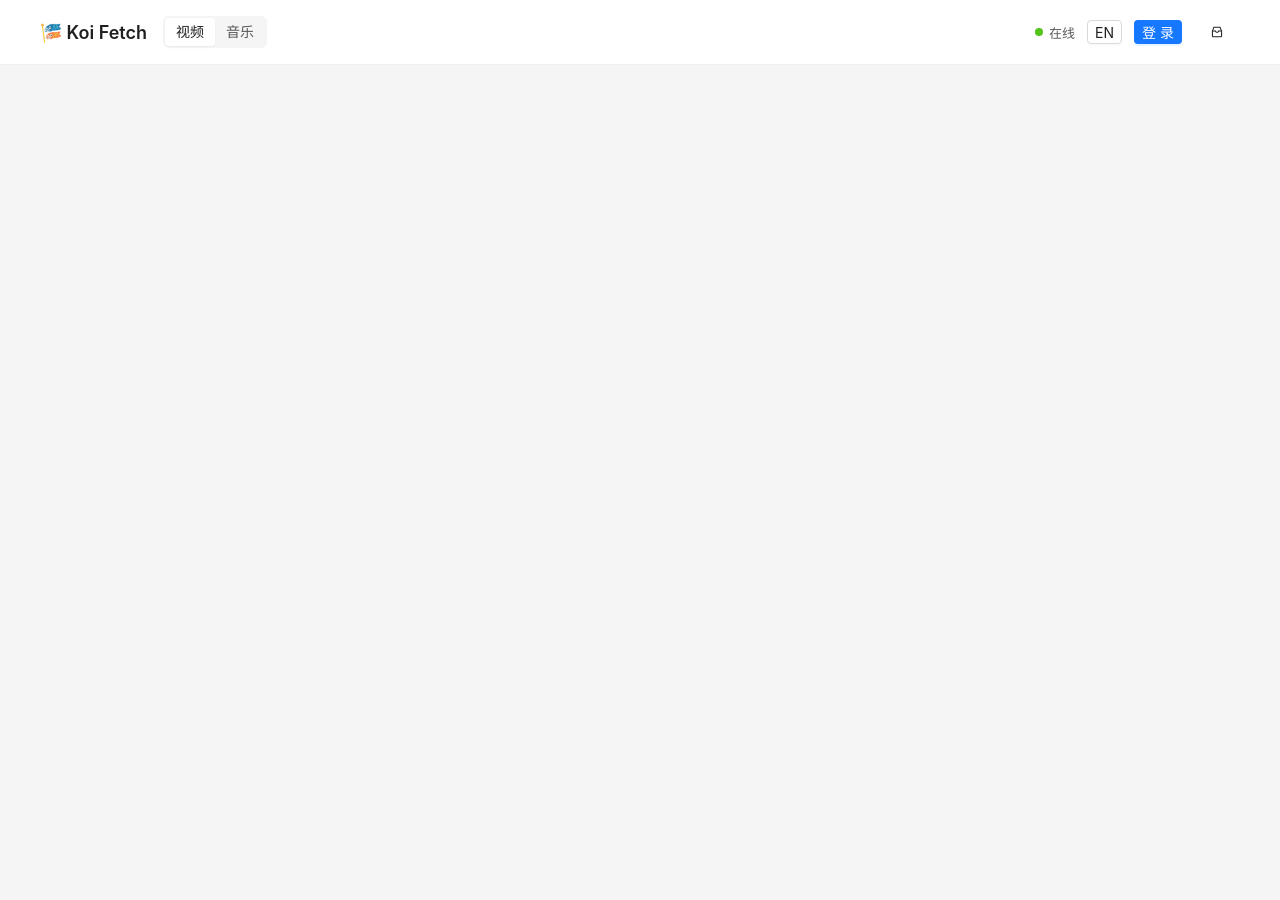
Test case: AppHeader › opens the download-center drawer from the header badge
This screenshot has width=1280, height=900.
Click the button with test id "download-center". click: (1217, 32)
box: [1194,16,1240,48]
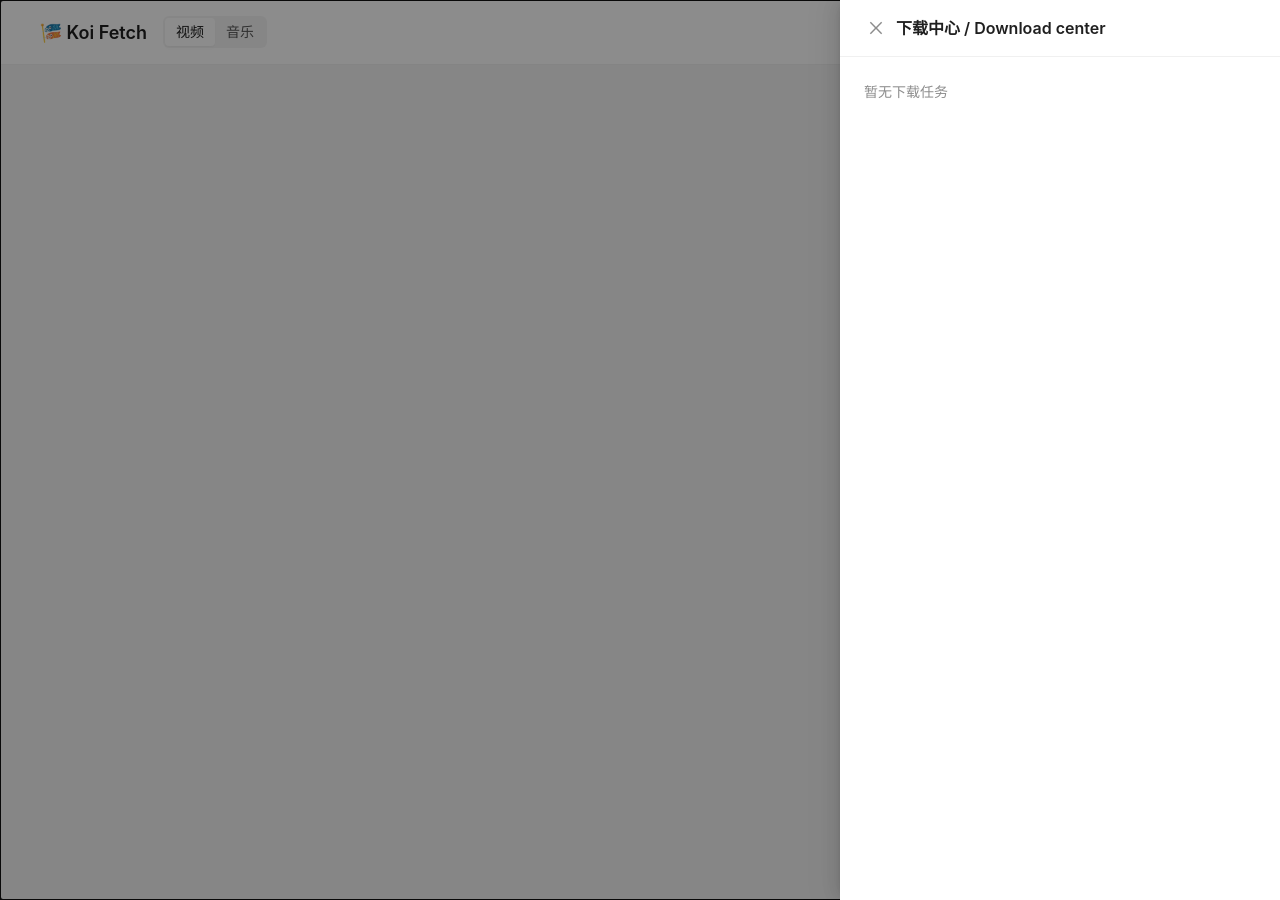
Now the element with test id "download-center-drawer" is shown, box [840,0,1279,899]
